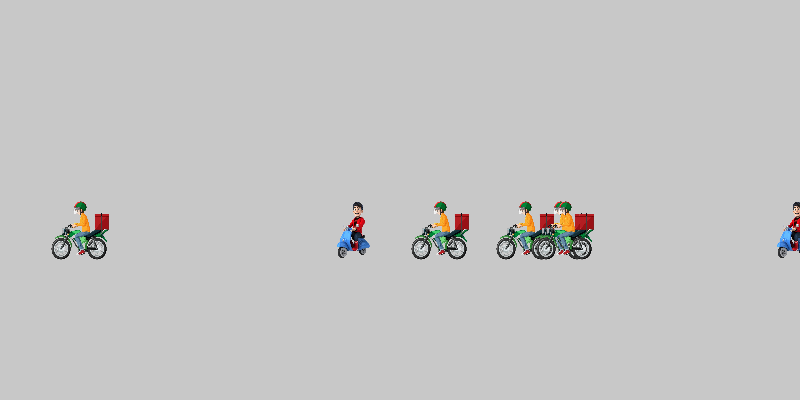helmet: (50, 200, 110, 260), (410, 200, 470, 260), (495, 200, 555, 260), (530, 200, 590, 260), (535, 200, 595, 260)
no_helmet: (325, 200, 385, 260), (765, 200, 800, 260)
